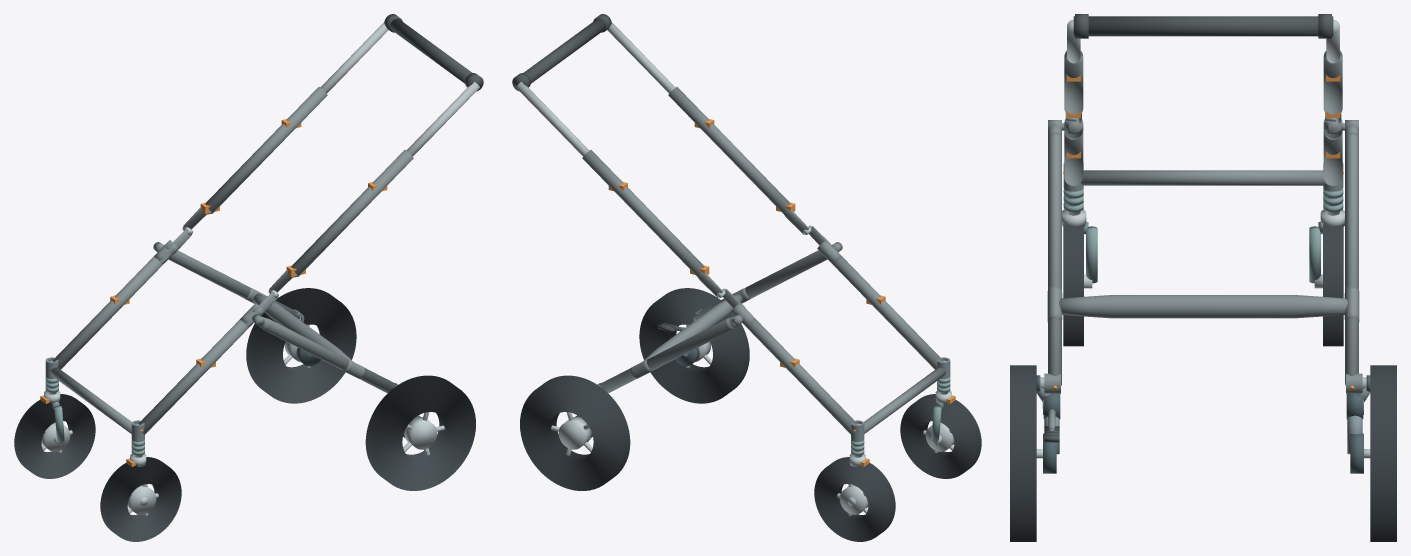
The model's file is w550_state1.glb.
The picture shows the model from 3 angles, left to right: view 1: azimuth 30°, elevation 25°; view 2: azimuth 150°, elevation 25°; view 3: azimuth 270°, elevation 25°; orthographic projection. The views are drawn at different scales.
Parts seen in each view (by area): view 1: RL_tire.002, RR_tire.002, FL_tire.002, FR_tire.002, main_upper_-1.003, main_upper_1.003, main_lower_1.003, main_lower_-1.003, V46_rear_leg_-1.003, round_handle.002, V46_rear_leg_1.003, V46_rearbar.003 (+5 smaller); view 2: RR_tire.002, RL_tire.002, FR_tire.002, FL_tire.002, main_upper_1.003, main_upper_-1.003, main_lower_-1.003, main_lower_1.003, V46_rear_leg_1.003, round_handle.002, V46_rear_leg_-1.003, V46_rearbar.003 (+5 smaller); view 3: V46_rearbar.003, round_handle.002, RL_tire.002, RR_tire.002, front_fixed_round_tube.002, V46_rear_leg_1.003, V46_rear_leg_-1.003, FL_tire.002, FR_tire.002, main_upper_1.003, main_upper_-1.003, main_lower_1.003 (+9 smaller).
Boxes of the visible parts, x1,y1,x2,y2 form: RL_tire.002: [365, 375, 475, 490]; RR_tire.002: [246, 288, 356, 403]; FL_tire.002: [100, 457, 181, 541]; FR_tire.002: [14, 394, 95, 478]; main_upper_-1.003: [291, 150, 413, 276]; main_upper_1.003: [205, 87, 327, 213]; main_lower_1.003: [52, 253, 170, 369]; main_lower_-1.003: [138, 319, 252, 434]; V46_rear_leg_-1.003: [261, 318, 396, 393]; round_handle.002: [390, 18, 482, 89]; V46_rear_leg_1.003: [168, 250, 300, 318]; V46_rearbar.003: [253, 293, 351, 360]; RR_tire.002: [520, 375, 630, 490]; RL_tire.002: [639, 288, 749, 403]; FR_tire.002: [814, 457, 895, 541]; FL_tire.002: [900, 394, 981, 478]; main_upper_1.003: [582, 150, 704, 276]; main_upper_-1.003: [668, 87, 790, 213]; main_lower_-1.003: [825, 253, 943, 369]; main_lower_1.003: [743, 319, 857, 434]; V46_rear_leg_1.003: [599, 318, 734, 393]; round_handle.002: [513, 18, 605, 89]; V46_rear_leg_-1.003: [695, 250, 827, 318]; V46_rearbar.003: [644, 293, 742, 360]; V46_rearbar.003: [1059, 295, 1347, 318]; round_handle.002: [1073, 16, 1333, 36]; RL_tire.002: [1010, 365, 1036, 541]; RR_tire.002: [1370, 365, 1396, 541]; front_fixed_round_tube.002: [1081, 170, 1325, 185]; V46_rear_leg_1.003: [1345, 132, 1358, 385]; V46_rear_leg_-1.003: [1048, 132, 1061, 385]; FL_tire.002: [1063, 224, 1083, 346]; FR_tire.002: [1323, 224, 1343, 346]; main_upper_1.003: [1323, 55, 1342, 114]; main_upper_-1.003: [1064, 55, 1083, 114]; main_lower_1.003: [1323, 131, 1342, 185].
Size of the model in its own units: 1.12 by 1.07 by 0.656.
